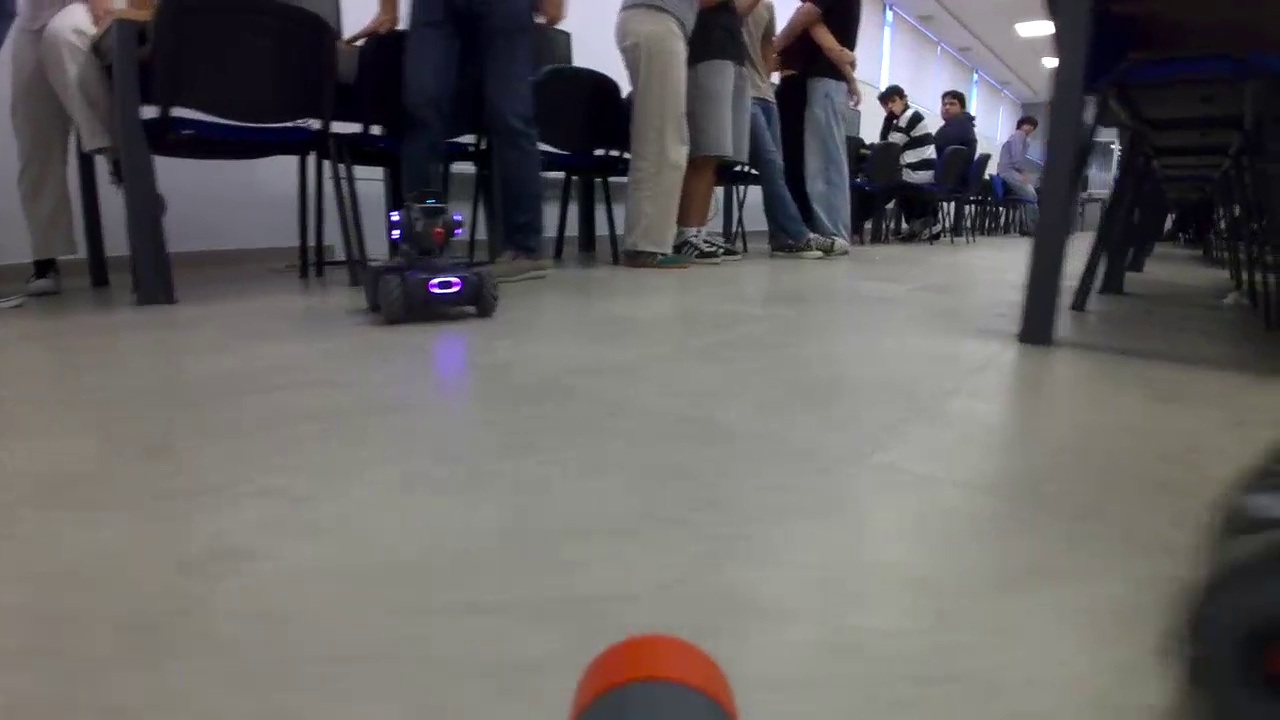robot: (350, 207, 510, 330)
